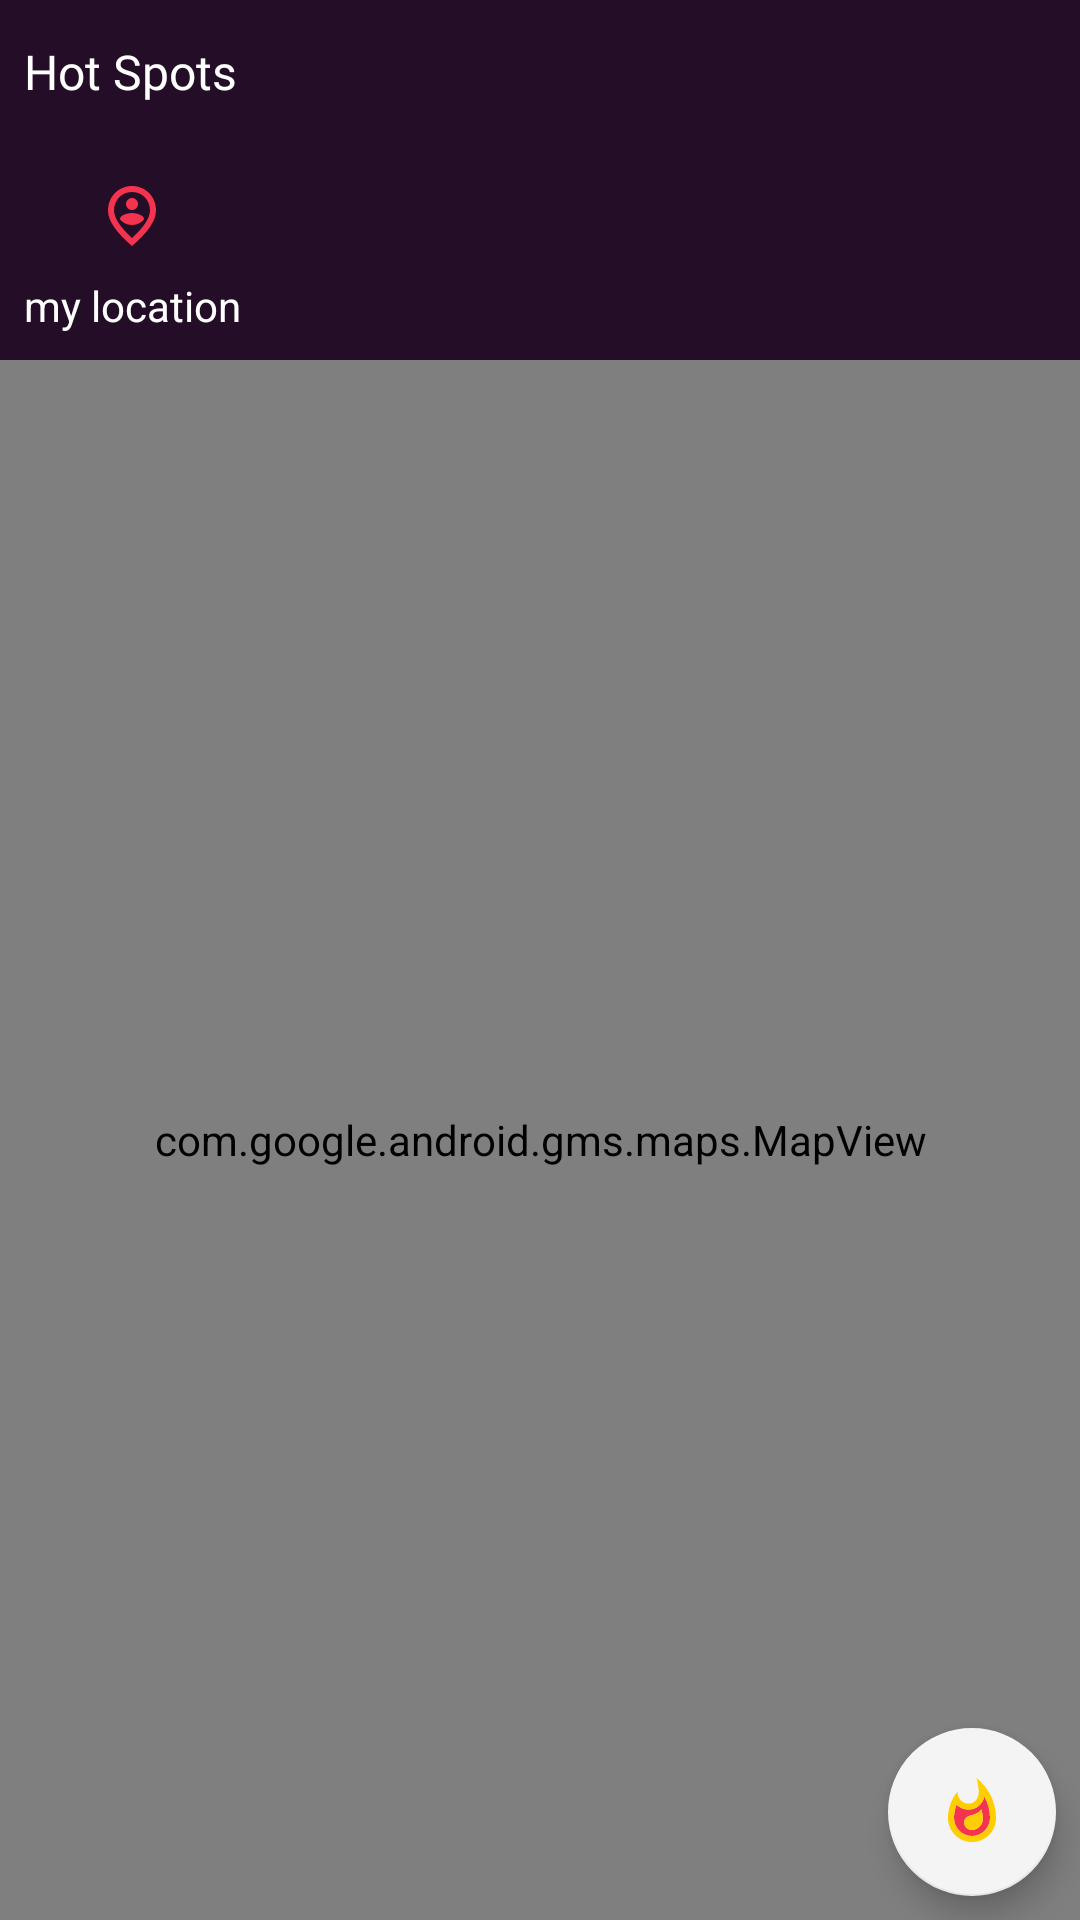

Locate icon controls on the screen. Image size 1080x1920, boxes as (x1, y1, x2, y2).
hotspot: (888, 1728, 1056, 1896)
